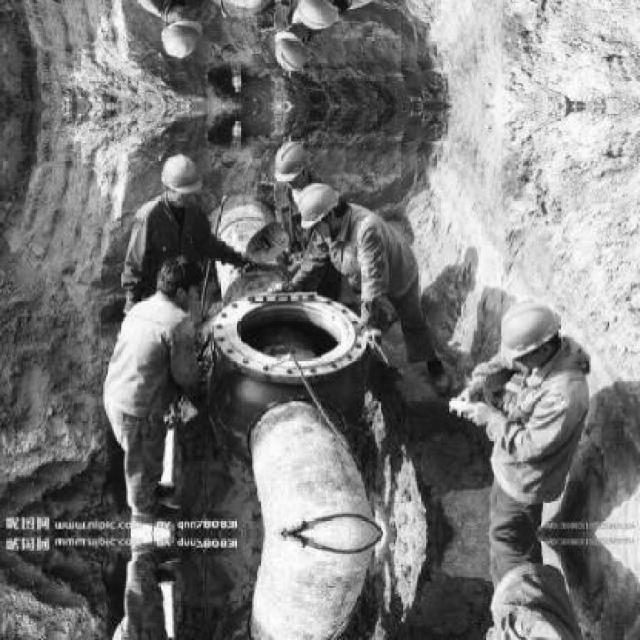helmet: (488, 296, 562, 376), (296, 178, 346, 242), (159, 9, 206, 62), (159, 151, 206, 203), (271, 137, 315, 192), (271, 20, 315, 75), (293, 0, 346, 35)
